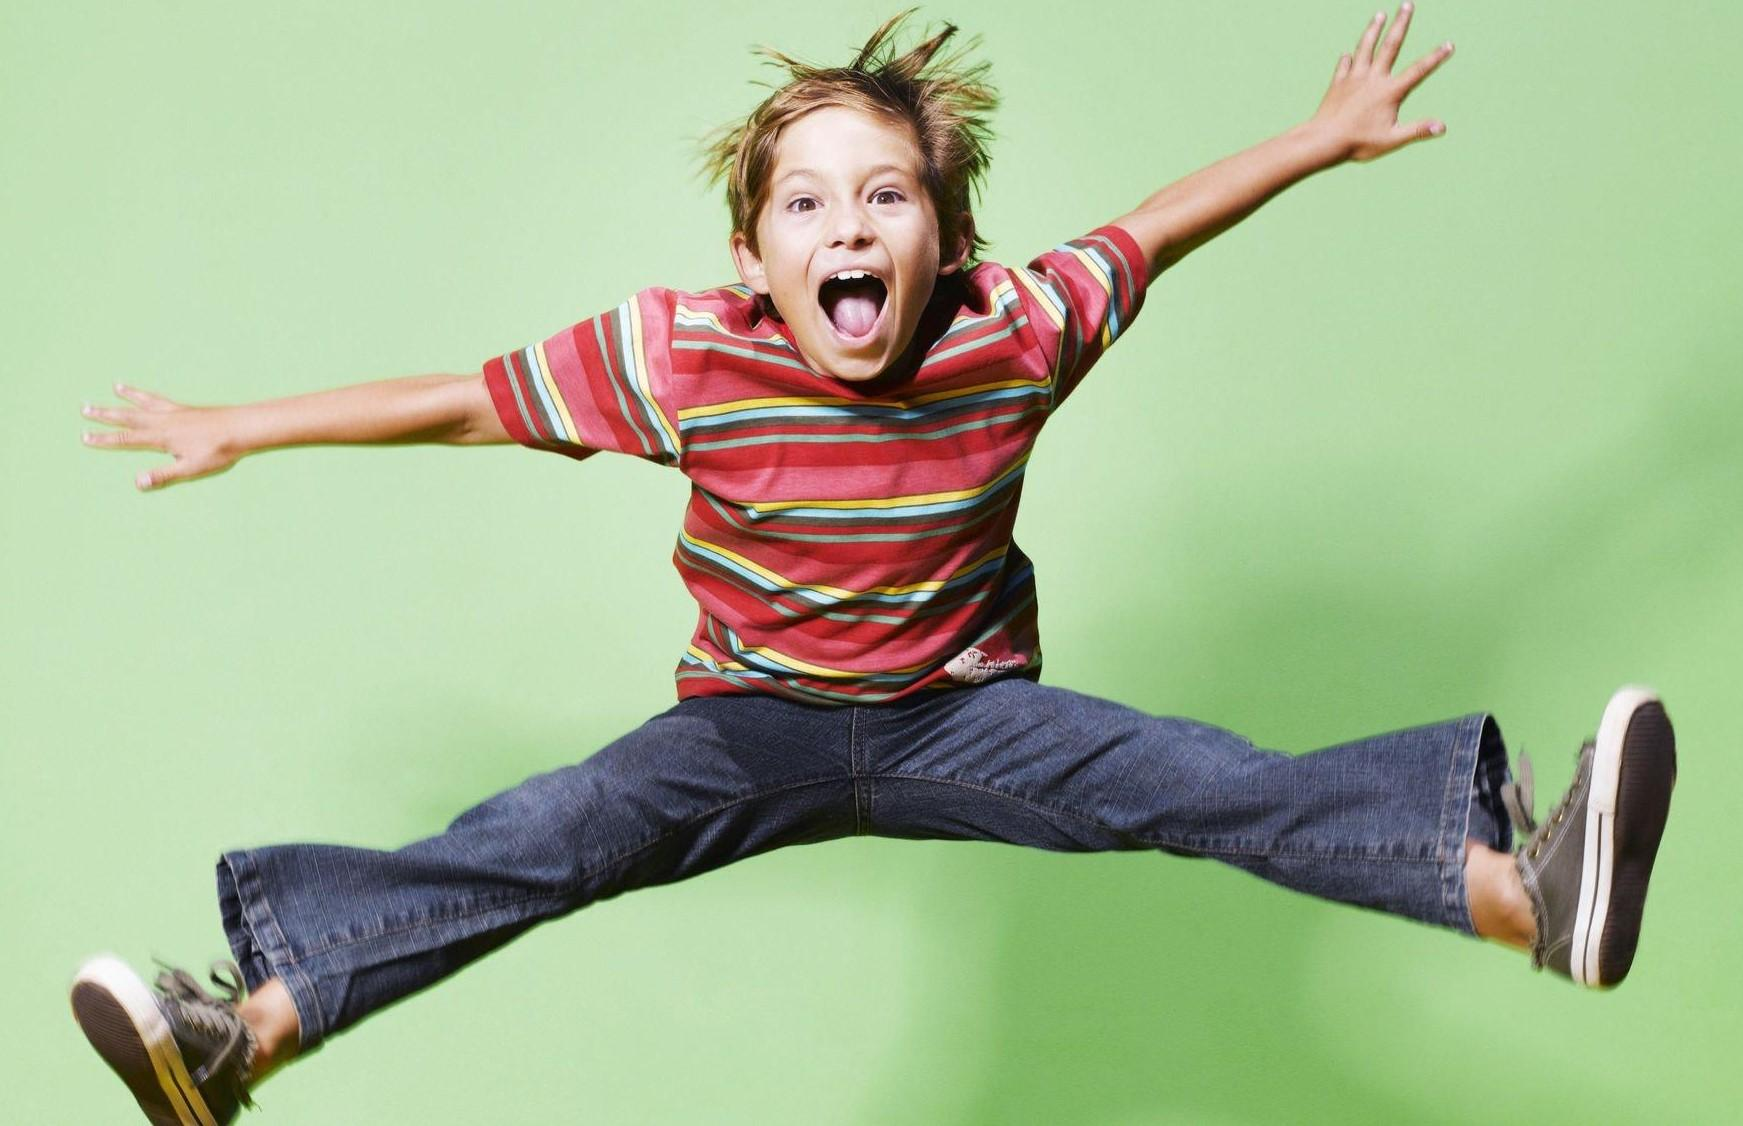Healthy: (724, 121, 972, 410)
